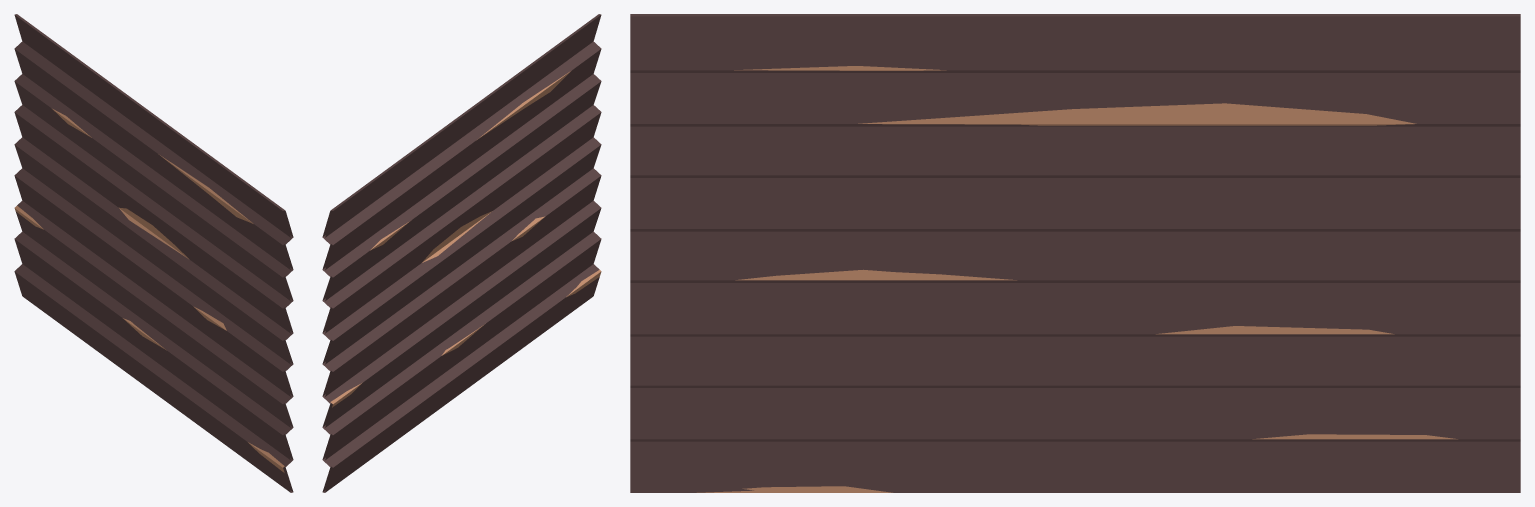
File: builder_48.FBX
3 renders of one model, left to right at view 1: azimuth 30°, elevation 25°; view 2: azimuth 150°, elevation 25°; view 3: azimuth 270°, elevation 25°, orthographic. The views are drawn at different scales.
Visible parts, largest first — view 1: builder_48; view 2: builder_48; view 3: builder_48.
Part boxes in pixels (box(x1,y1,x2,y2)): builder_48: box(14, 14, 293, 492); builder_48: box(322, 14, 601, 492); builder_48: box(630, 14, 1520, 492).
Size of the model in its own units: 2.79 by 71.88 by 123.
